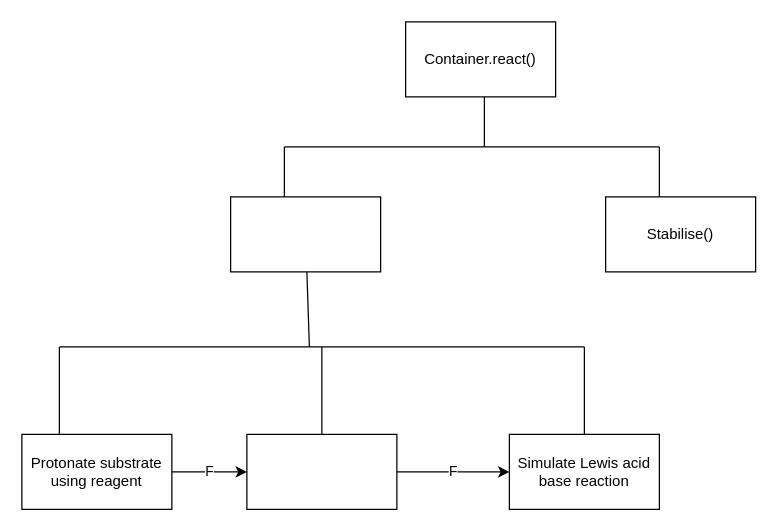
This 778x531 diagram has some shape labels left out. Here are the shapes that lost their labels. From the top down, the centre of each, then its label:
At point 305,234: "React reagent with substrate".
At point 321,471: "Deprotonate subtrate using reagent".
